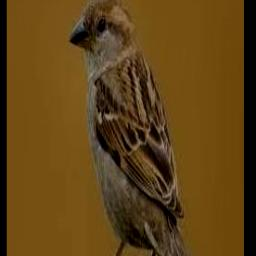Sparrow: (69, 0, 212, 256)
